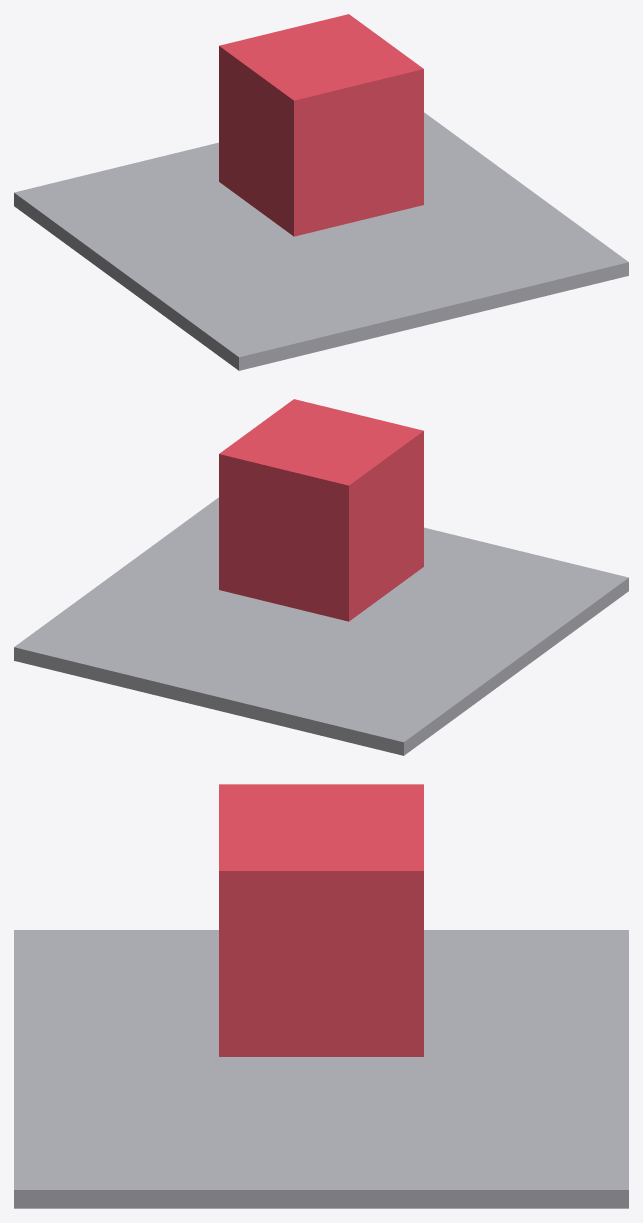
The model's file is spin-cube.glb.
The picture shows the model from 3 angles, top to bottom: view 1: azimuth 30°, elevation 25°; view 2: azimuth 150°, elevation 25°; view 3: azimuth 270°, elevation 25°; orthographic projection. The views are drawn at different scales.
Visible parts, largest first — view 1: Slab, Cube; view 2: Slab, Cube; view 3: Slab, Cube.
Boxes of the visible parts, x1,y1,x2,y2 form: Slab: (14,112,628,370); Cube: (219,14,423,236); Slab: (14,497,628,755); Cube: (219,399,423,621); Slab: (14,930,628,1208); Cube: (219,784,423,1056).
Bounding box in the file's own units: 6 × 2.7 × 6.
